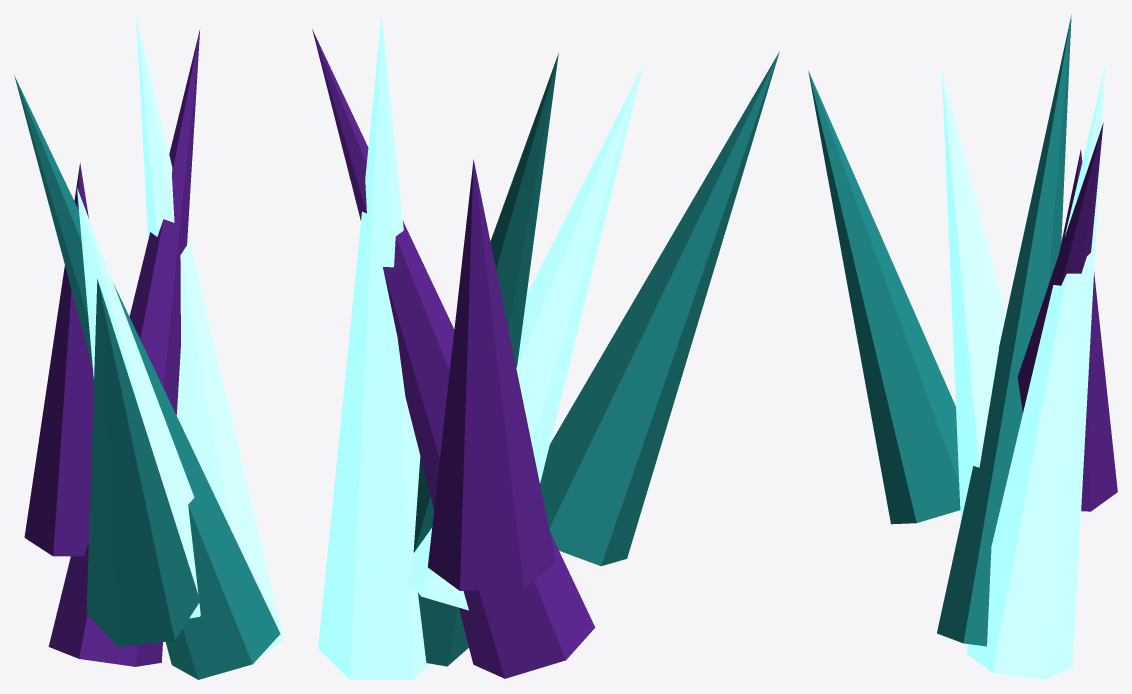
Rendered from Prop_OR_Crystal_23.glb.
3 views of the same model, side by side, from view 1: azimuth 30°, elevation 25°; view 2: azimuth 150°, elevation 25°; view 3: azimuth 270°, elevation 25° (orthographic). The views are drawn at different scales.
Visible parts, largest first — view 1: Prop_OR_Crystal_23; view 2: Prop_OR_Crystal_23; view 3: Prop_OR_Crystal_23.
Boxes of the visible parts, x1=… form: Prop_OR_Crystal_23: x1=14, y1=14, x2=283, y2=679; Prop_OR_Crystal_23: x1=312, y1=14, x2=779, y2=679; Prop_OR_Crystal_23: x1=808, y1=14, x2=1117, y2=679.
Size of the model in its own units: 0.7196 by 1.49 by 0.72.
